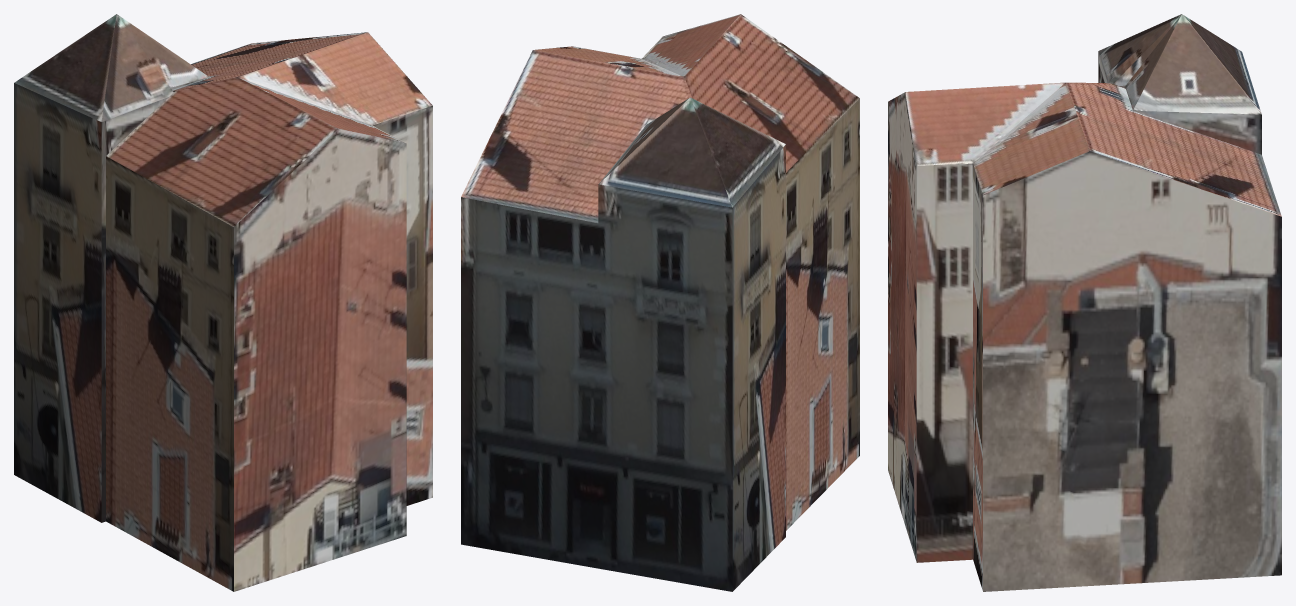
3 views of the same model, side by side, from view 1: azimuth 30°, elevation 25°; view 2: azimuth 150°, elevation 25°; view 3: azimuth 270°, elevation 25° (orthographic). The views are drawn at different scales.
Visible parts, largest first — view 1: Z_UP; view 2: Z_UP; view 3: Z_UP.
Part boxes in pixels (<box>): Z_UP: <box>14,14,432,591</box>; Z_UP: <box>461,14,859,591</box>; Z_UP: <box>888,14,1281,591</box>.
Bounding box in the file's own units: 14.59 × 22.28 × 16.91.
Materials: 2 (1 with a texture image).
